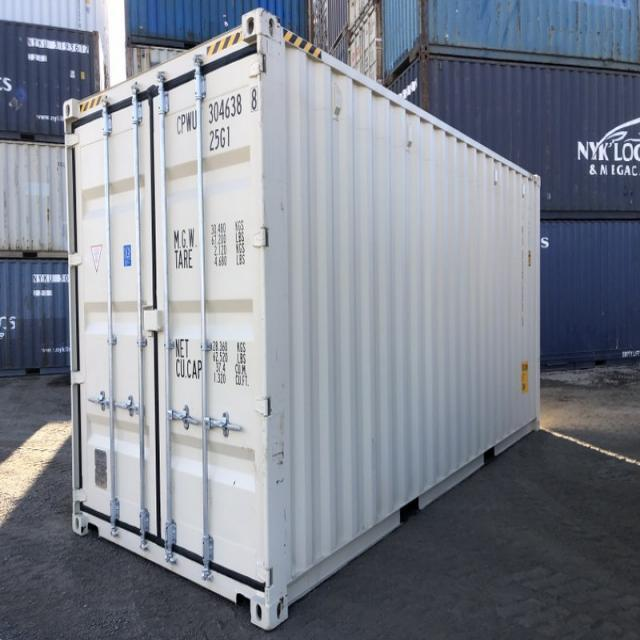container_number_h: (173, 83, 259, 152)
